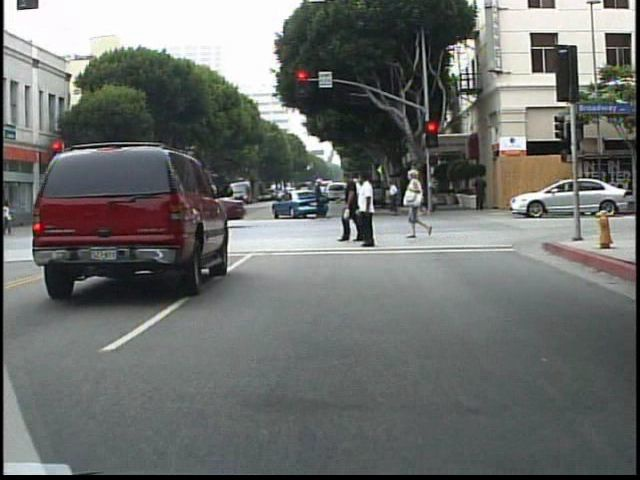person: (356, 172, 390, 250), (403, 169, 434, 243), (342, 169, 365, 247), (347, 174, 368, 221), (311, 174, 329, 220), (471, 169, 491, 209), (147, 185, 163, 232), (127, 187, 144, 230), (339, 179, 357, 217), (4, 197, 20, 238), (387, 177, 402, 218), (3, 199, 17, 236)
